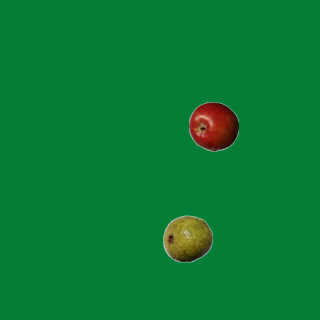Apple Braeburn: (188, 101, 238, 151)
Guava: (162, 213, 212, 263)
